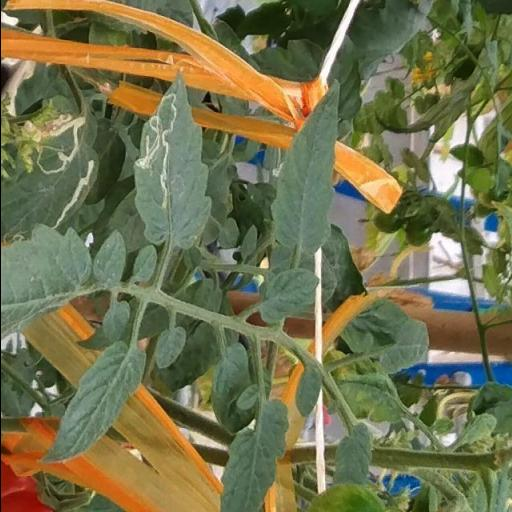disease_tomato: (128, 65, 214, 253), (27, 90, 103, 242)
